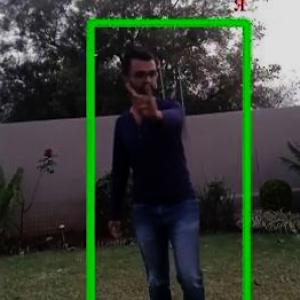takeoff-hand: (124, 75, 167, 119)
